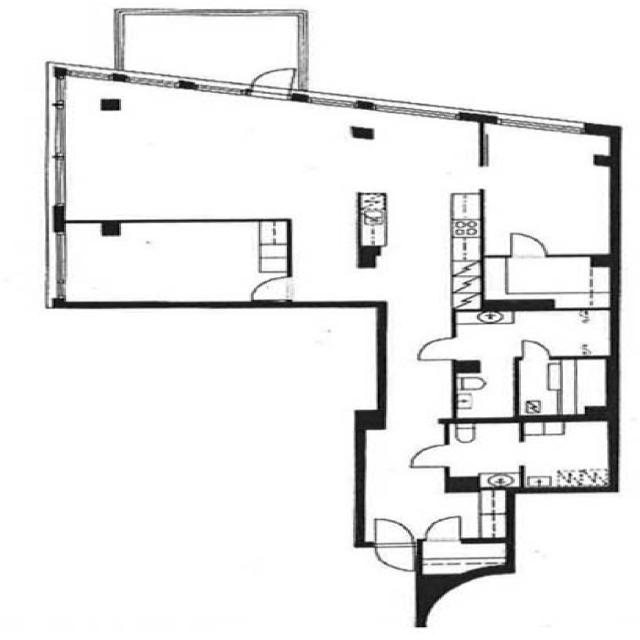door: (484, 254, 616, 308), (416, 537, 511, 577), (369, 516, 418, 572), (245, 64, 299, 100), (401, 441, 459, 473), (409, 333, 465, 365), (189, 72, 251, 100), (502, 229, 556, 260), (419, 513, 467, 545), (246, 273, 298, 300), (516, 337, 554, 363)
window: (38, 81, 78, 170), (38, 146, 76, 212), (44, 229, 73, 301)
zone: (353, 117, 487, 298), (55, 220, 292, 305), (481, 130, 613, 258), (356, 428, 509, 538), (452, 307, 612, 359), (482, 255, 616, 308), (518, 418, 614, 488), (516, 358, 612, 418), (451, 340, 516, 419), (445, 420, 521, 487), (418, 540, 510, 576)
